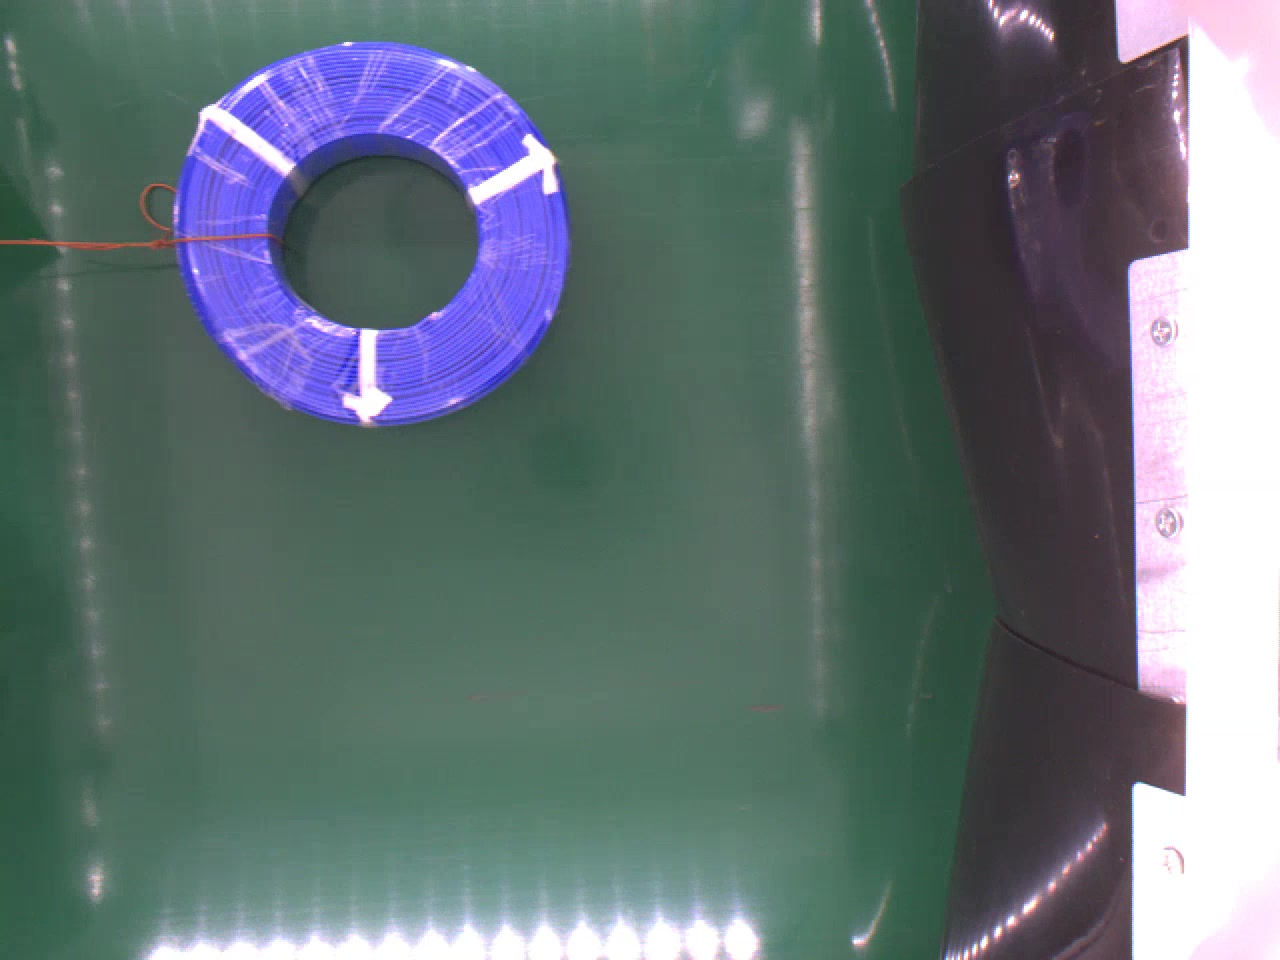blue: (172, 38, 577, 429)
